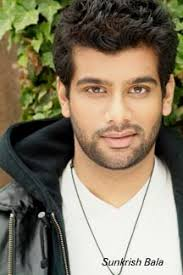Indian_Male: (76, 56, 163, 170)
